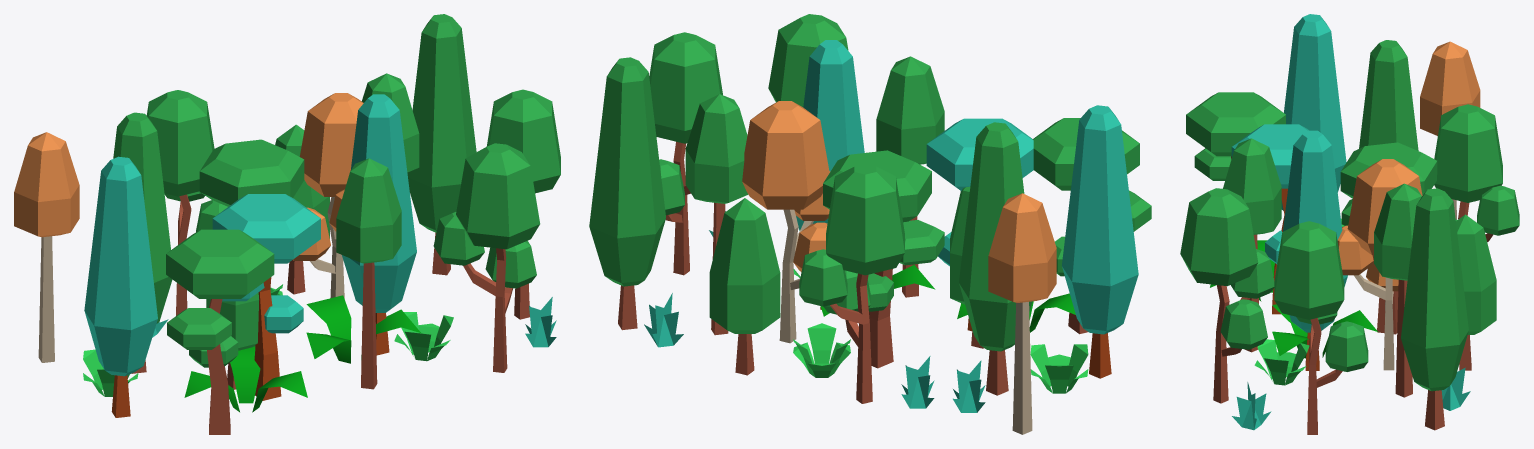
File: trees_3.fbx
The picture shows the model from 3 angles, left to right: view 1: azimuth 30°, elevation 25°; view 2: azimuth 150°, elevation 25°; view 3: azimuth 270°, elevation 25°; orthographic projection. The views are drawn at different scales.
Visible parts, largest first — view 1: mergedBlocks; view 2: mergedBlocks; view 3: mergedBlocks.
Boxes of the visible parts, bbox=[...] form: mergedBlocks: bbox=[14, 14, 560, 434]; mergedBlocks: bbox=[589, 14, 1151, 434]; mergedBlocks: bbox=[1180, 14, 1519, 434].
Size of the model in its own units: 32.8 by 16.88 by 22.21.
